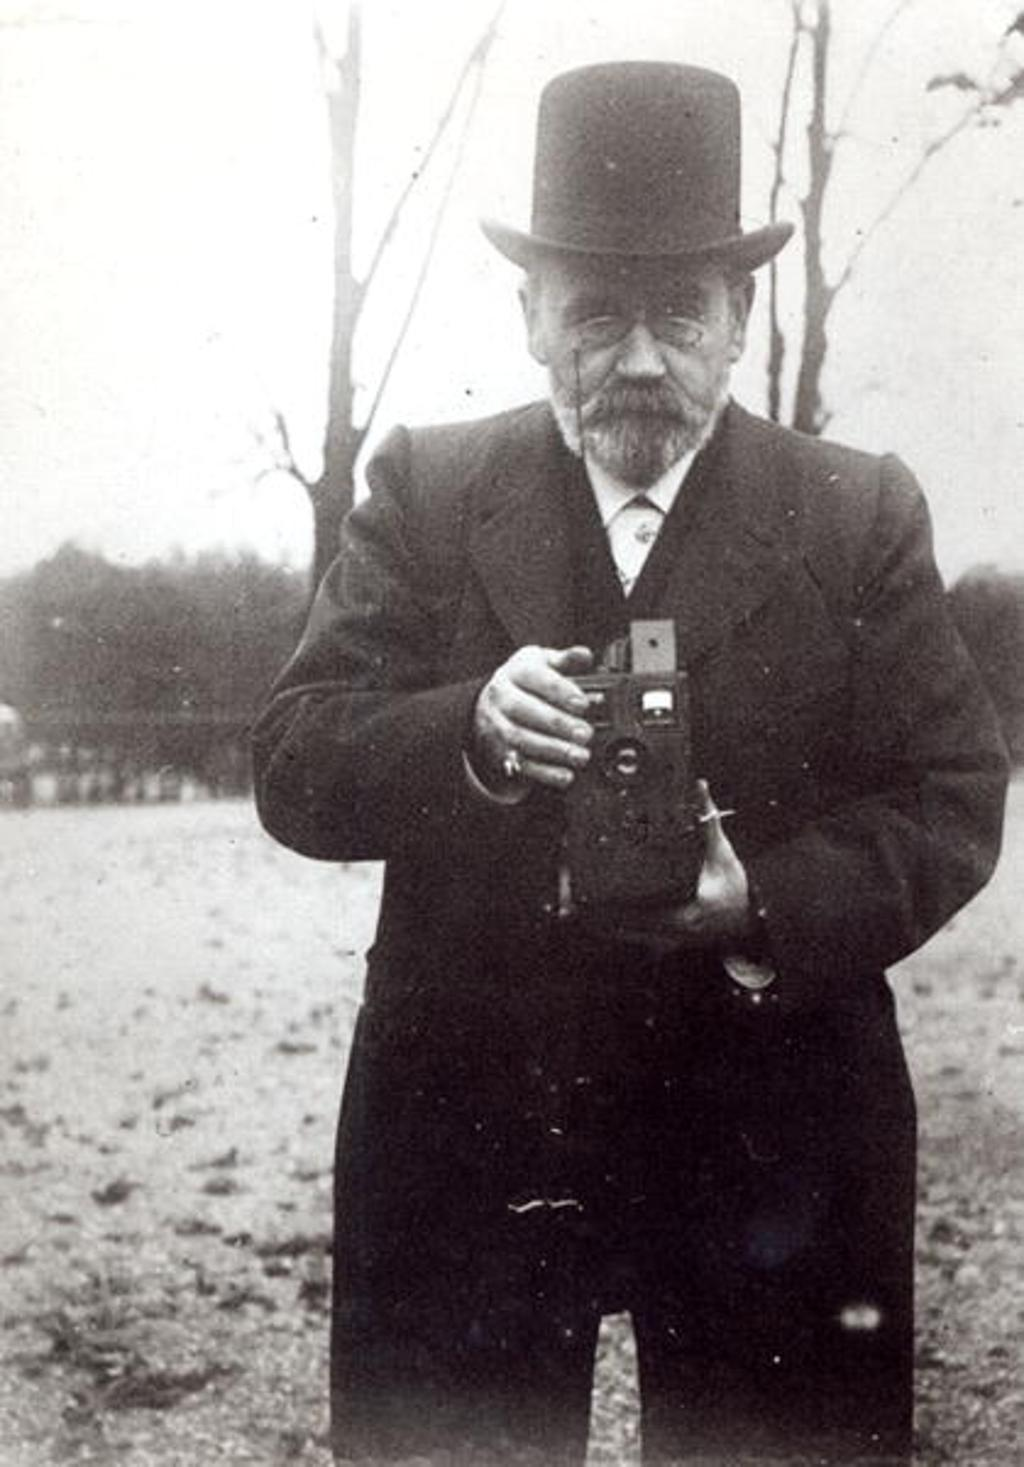face: (532, 246, 732, 475)
